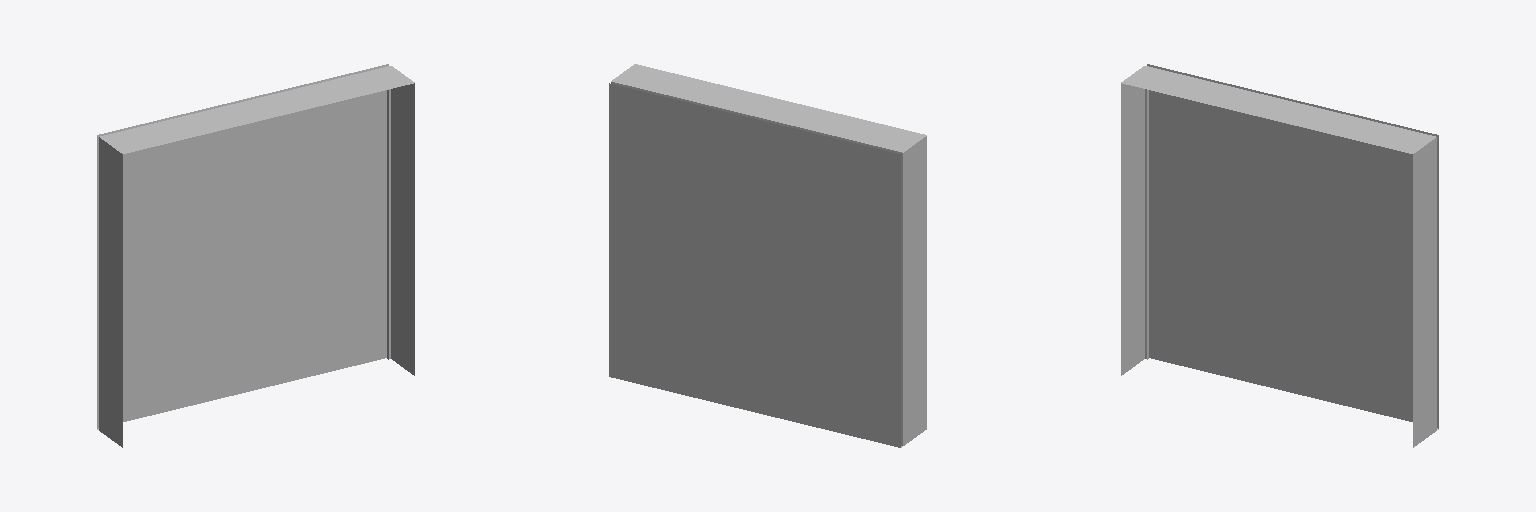
The model's file is shop2.obj.
3 views of the same model, side by side, from view 1: azimuth 30°, elevation 25°; view 2: azimuth 150°, elevation 25°; view 3: azimuth 330°, elevation 25° (orthographic).
Bounding box in the file's own units: 62.26 × 59.73 × 9.69.